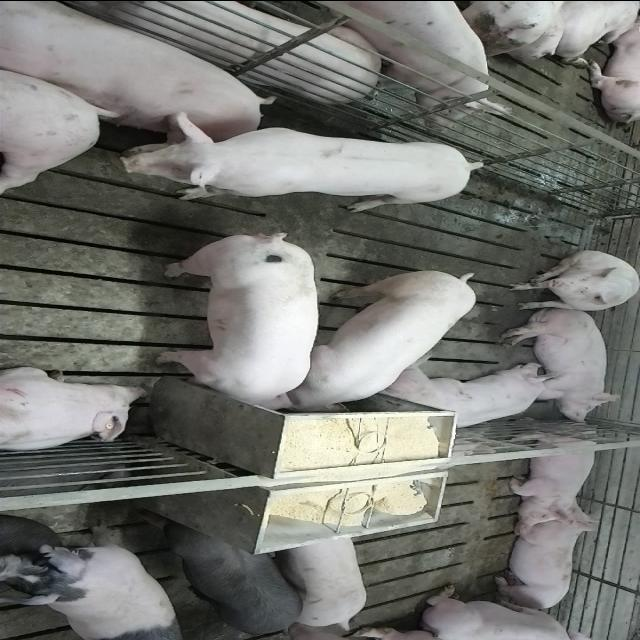Feeding: (156, 226, 322, 412), (282, 264, 479, 411)
Lateral_lying: (498, 306, 626, 424)
Sitting: (506, 250, 638, 312)
Standing: (108, 124, 488, 212), (135, 508, 303, 638), (300, 0, 499, 109), (9, 529, 182, 637), (281, 532, 367, 628)
Sternal_lying: (0, 0, 272, 144), (0, 365, 150, 453), (381, 366, 568, 433), (490, 511, 598, 612), (502, 424, 604, 528), (418, 584, 608, 638)
